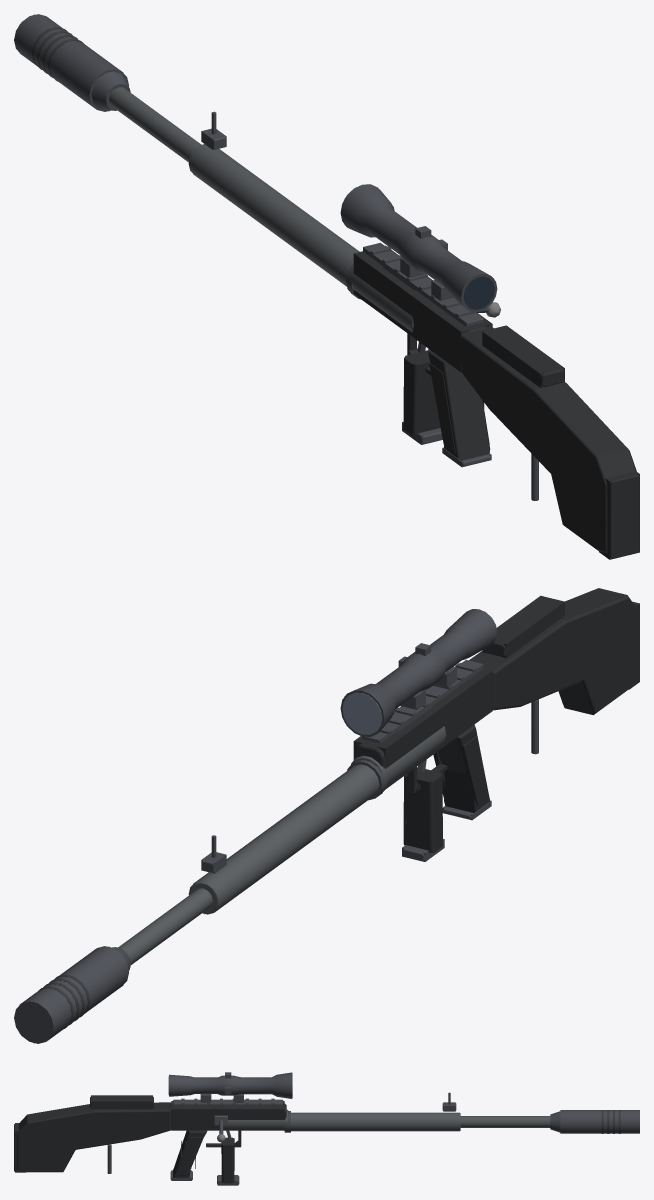
The model's file is n_umbra.glb.
3 renders of one model, top to bottom at view 1: azimuth 30°, elevation 25°; view 2: azimuth 150°, elevation 25°; view 3: azimuth 270°, elevation 25°, orthographic. The views are drawn at different scales.
Visible parts, largest first — view 1: L0, L1; view 2: L0, L1; view 3: L0, L1.
Boxes of the visible parts, bbox=[...] form: L0: bbox=[14, 14, 639, 559]; L1: bbox=[19, 14, 639, 559]; L0: bbox=[14, 588, 639, 1043]; L1: bbox=[15, 595, 639, 1043]; L0: bbox=[14, 1072, 639, 1184]; L1: bbox=[15, 1072, 639, 1185].
Bounding box in the file's own units: 0.1095 × 0.2335 × 1.22.
